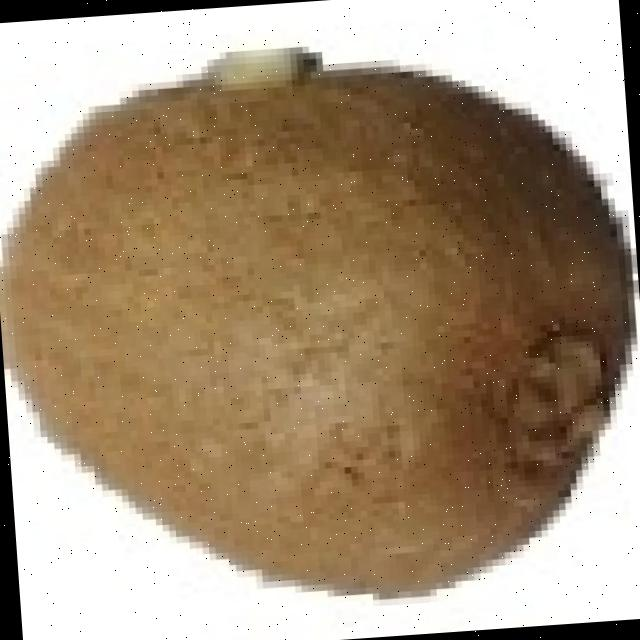kiwi: (0, 66, 622, 602)
